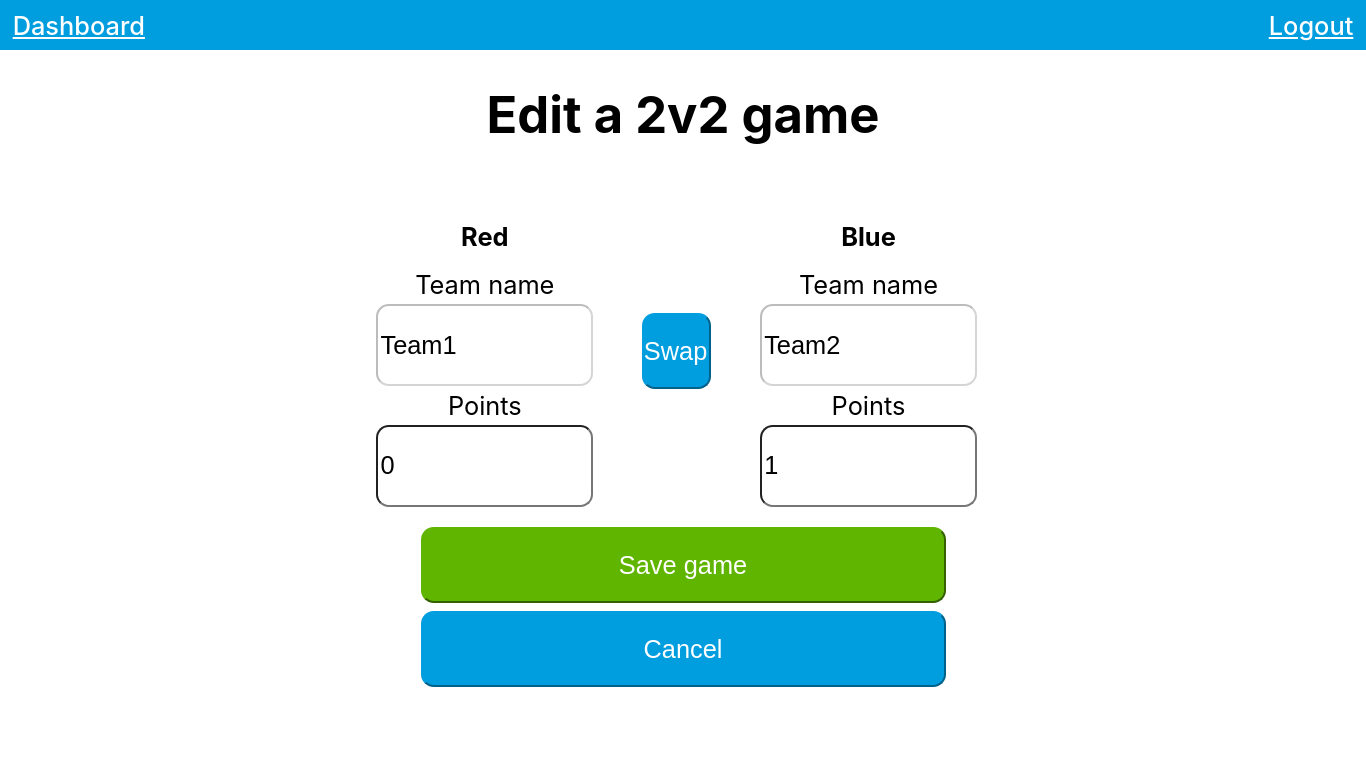
swap button swaps users
The image size is (1366, 768).
Expected: the heading "Edit a 2v2 game" is shown, [333,84,1033,145]
Expected: the field with placeholder "Username" below "Red" holds "Team1", [376,304,593,386]
Click the button "Swap".
click(677, 351)  # box [642,313,712,389]
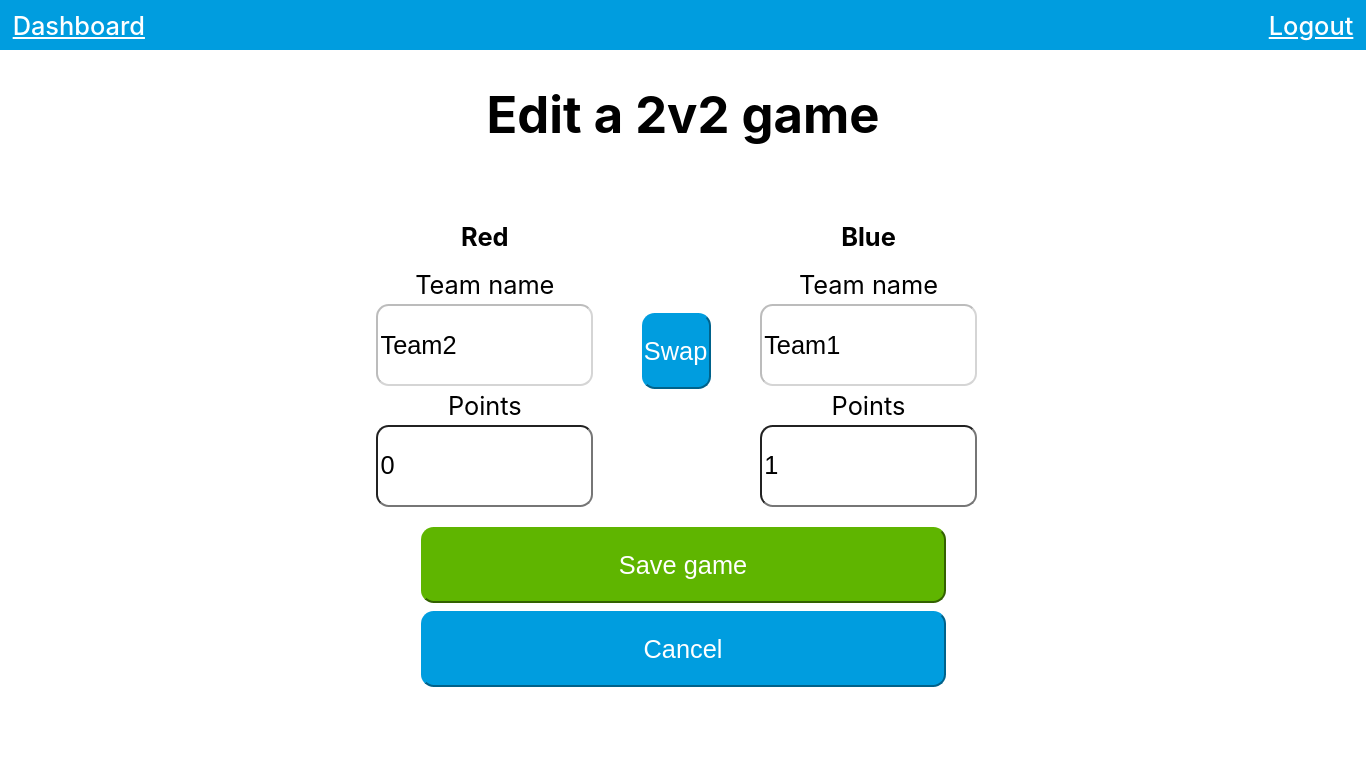
Now the field with placeholder "Username" below "Red" holds "Team2", box [376,304,593,386]
Now the field with placeholder "Username" below "Blue" holds "Team1", box [760,304,977,386]
